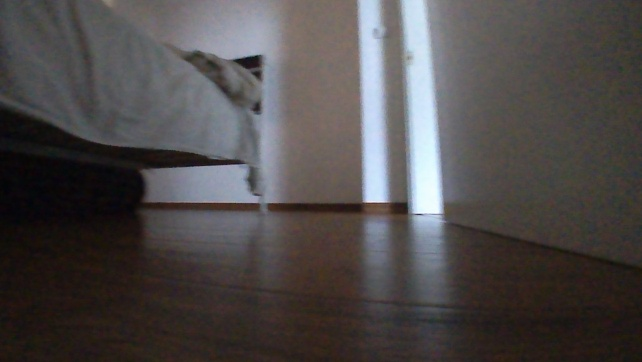bed1: (0, 0, 271, 215)
